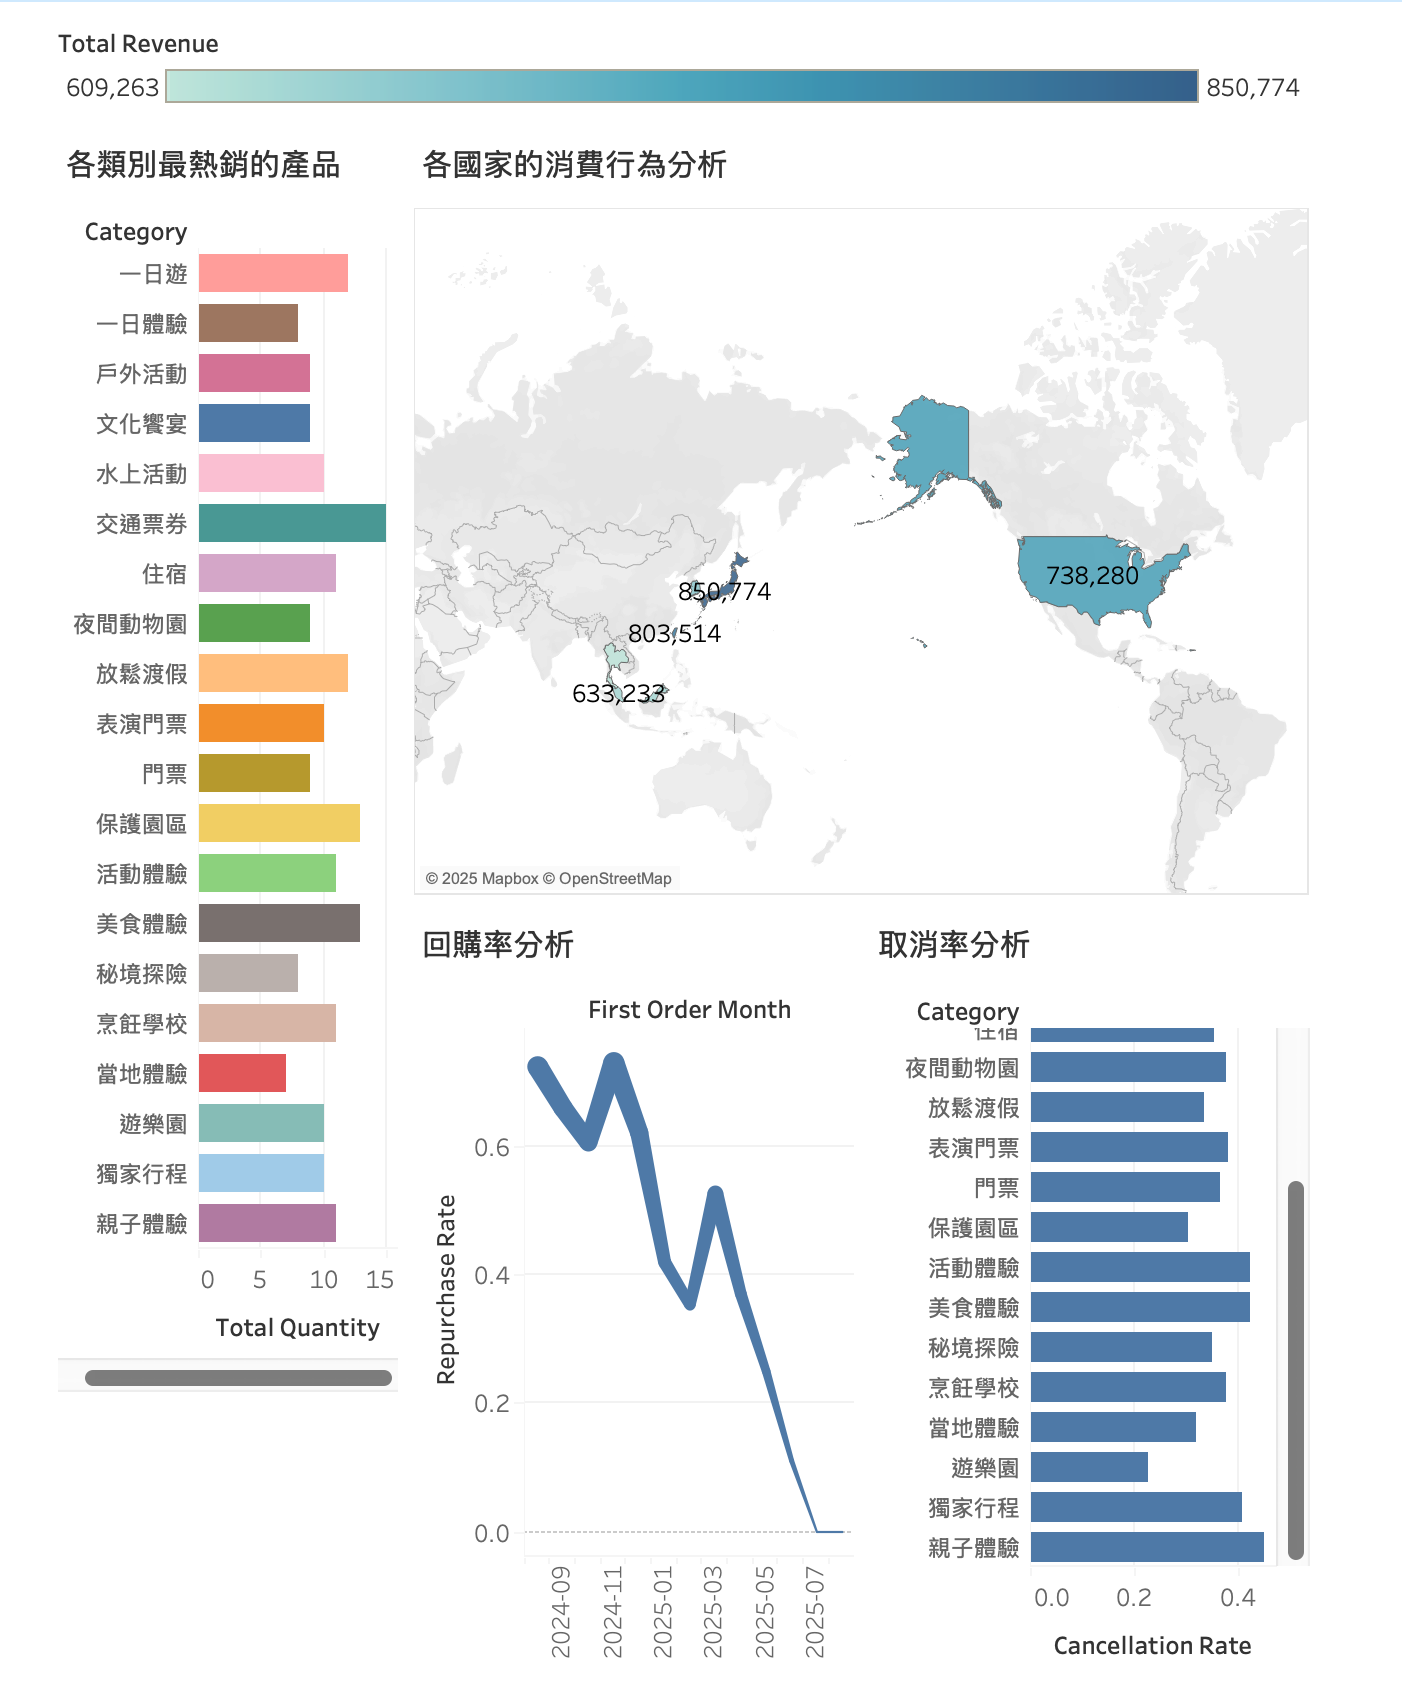

The page's visual inventory and layout, read from the dashboard file:
{"tool":"tableau","page":{"name":"dashboard","canvas":[650,860],"ordinal":0},"visuals":[{"type":"legend","title":"各國家銷售表現","param":"[federated.1amd0a80bgigog16szzva034mfw6].[sum:total_revenue:qk]","box":[8,9.9,634,39.6]},{"type":"worksheet","title":"最好的銷售項目","mark":"Automatic","rows":["category"],"cols":["total_quantity"],"box":[8,49.6,178,800.5]},{"type":"worksheet","title":"各國家銷售表現","mark":"Automatic","box":[186,49.6,456,400.3]},{"type":"worksheet","title":"回購率","mark":"Line","rows":["repurchase_rate"],"cols":["first_order_month"],"box":[186,449.8,228,400.3]},{"type":"worksheet","title":"取消率","mark":"Automatic","rows":["category"],"cols":["cancellation_rate"],"box":[414,449.8,228,400.3]}]}

Visuals, with their boxes on the page's 650x860 design canvas (x1, y1, x2, y2). These are canvas units, not pixel positions in the 1402x1700 screenshot, which may show the page scaled, cropped or inside an application window:
"各國家銷售表現" legend: [8, 10, 642, 50]
"最好的銷售項目" worksheet: [8, 50, 186, 850]
"各國家銷售表現" worksheet: [186, 50, 642, 450]
"回購率" worksheet (Line marks): [186, 450, 414, 850]
"取消率" worksheet: [414, 450, 642, 850]
